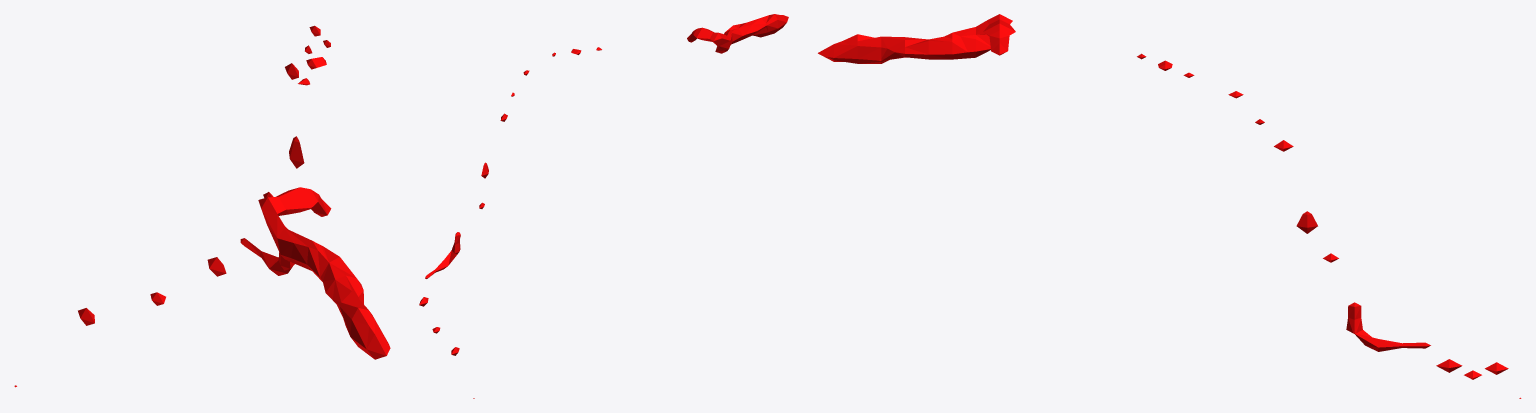
Rendered from aer_coarse.dae.
3 renders of one model, left to right at view 1: azimuth 30°, elevation 25°; view 2: azimuth 150°, elevation 25°; view 3: azimuth 270°, elevation 25°, orthographic. The views are drawn at different scales.
Visible parts, largest first — view 1: aer; view 2: aer; view 3: aer.
Boxes of the visible parts, bbox=[...] form: aer: bbox=[14, 25, 390, 387]; aer: bbox=[419, 14, 788, 398]; aer: bbox=[818, 14, 1521, 398].
Bounding box in the file's own units: 218 × 344 × 621.
